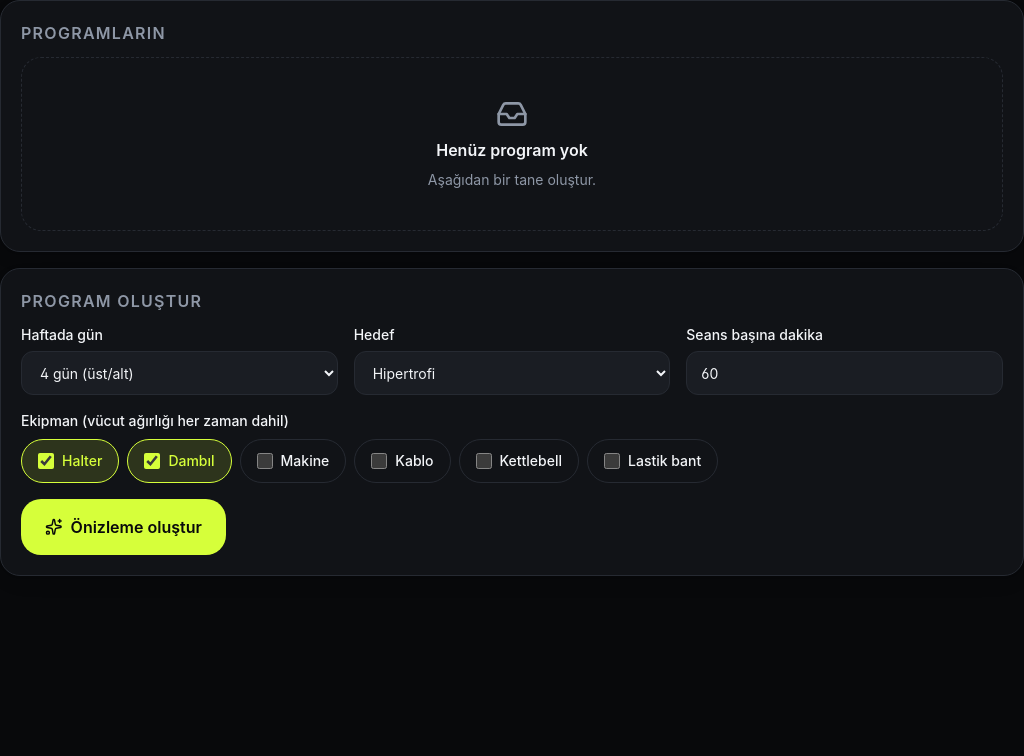
Scenario: program builder › names the fields the API would refuse before saving, in Turkish too
The width and height of the screenshot is (1024, 756).
Click the button "Önizleme oluştur" at (123, 527), box [21, 499, 226, 555]
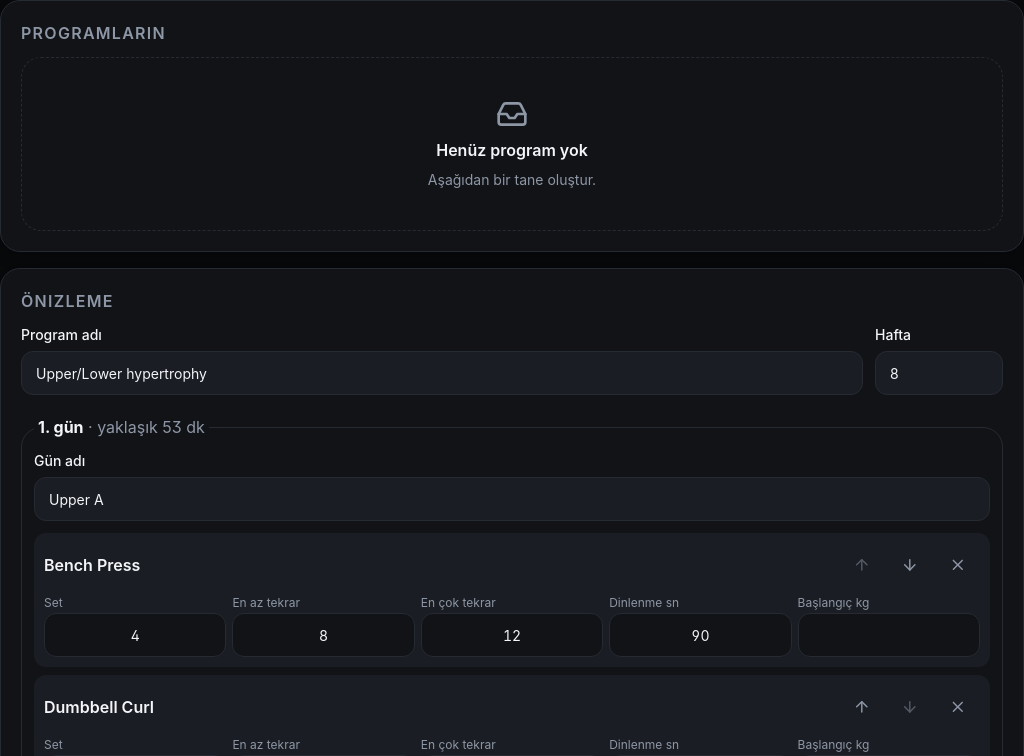
Replace the text in the field named "Set, Bench Press" with "0" at (135, 635), box [44, 613, 226, 657]
(page scrolled)
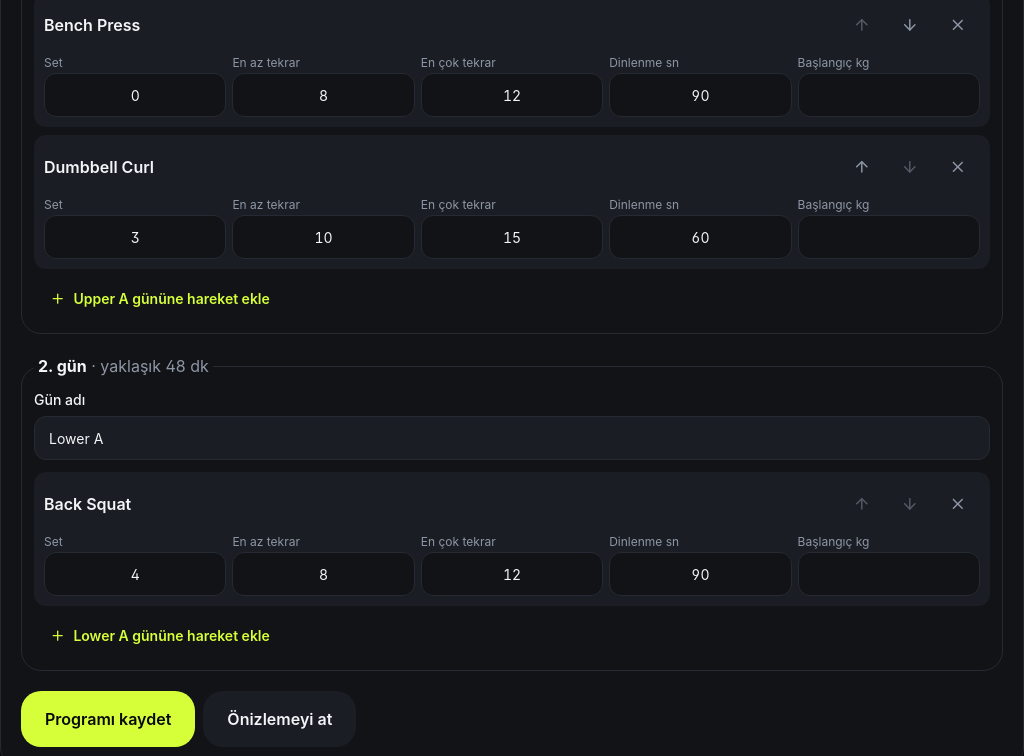
Click the button "Programı kaydet" at (108, 719), box [21, 691, 195, 747]
(page scrolled)
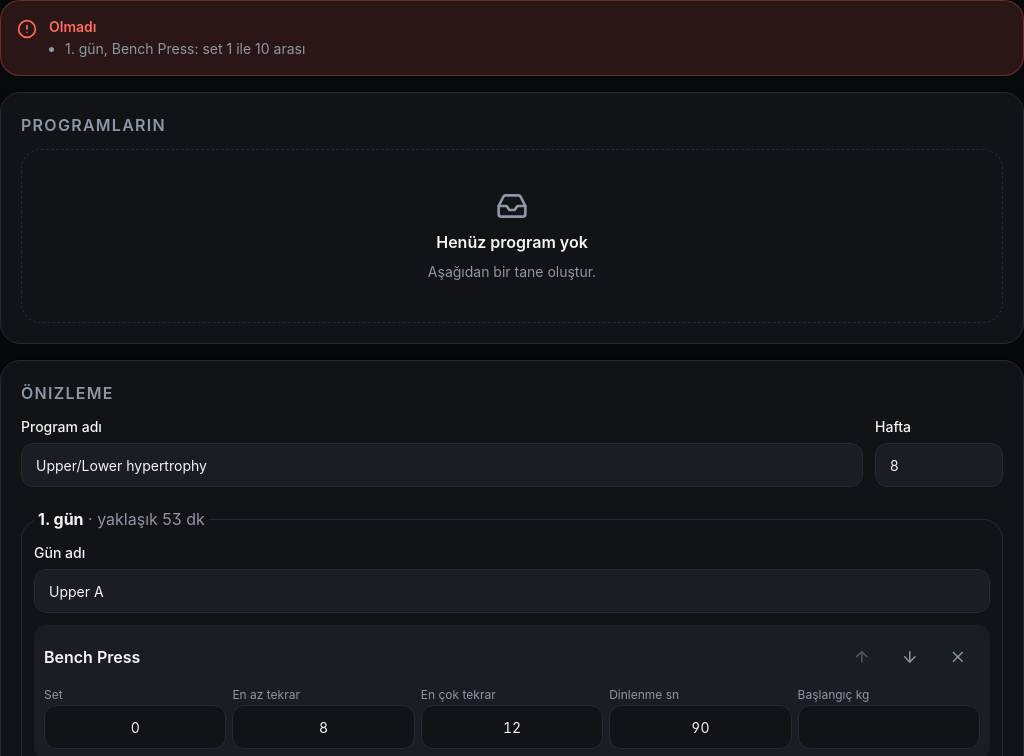
Check: the message shows "1. gün, Bench Press: set 1 ile 10 arası", box [65, 40, 305, 57]
